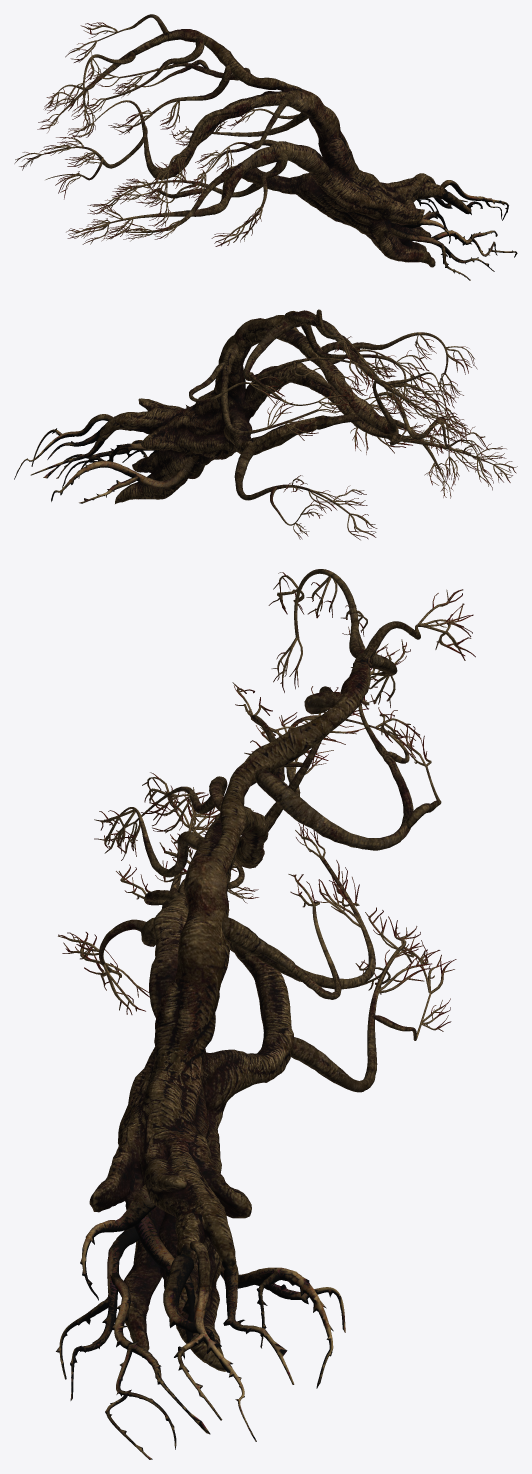
The model's file is fallen_tree.glb.
3 renders of one model, top to bottom at view 1: azimuth 30°, elevation 25°; view 2: azimuth 150°, elevation 25°; view 3: azimuth 270°, elevation 25°, orthographic. The views are drawn at different scales.
Visible parts, largest first — view 1: tree_body_low, tree_branches_low, NurbsPath.075, tree_roots_low_tree_roots_0; view 2: tree_body_low, tree_branches_low, NurbsPath.075, tree_roots_low_tree_roots_0; view 3: tree_body_low, tree_branches_low, tree_roots_low_tree_roots_0, NurbsPath.075.
Part boxes in pixels (x1=…): tree_body_low: x1=159, y1=29, x2=446, y2=267; tree_branches_low: x1=27, y1=14, x2=308, y2=234; NurbsPath.075: x1=14, y1=22, x2=263, y2=246; tree_roots_low_tree_roots_0: x1=366, y1=180, x2=517, y2=280; tree_body_low: x1=99, y1=311, x2=400, y2=503; tree_branches_low: x1=189, y1=309, x2=511, y2=525; NurbsPath.075: x1=250, y1=335, x2=517, y2=540; tree_roots_low_tree_roots_0: x1=14, y1=414, x2=195, y2=503; tree_body_low: x1=89, y1=670, x2=370, y2=1371; tree_branches_low: x1=99, y1=569, x2=447, y2=1092; tree_roots_low_tree_roots_0: x1=56, y1=1184, x2=345, y2=1459; NurbsPath.075: x1=58, y1=572, x2=475, y2=1031.
Size of the model in its own units: 5.51 by 3.2 by 2.24.
4 materials, 4 textured.
